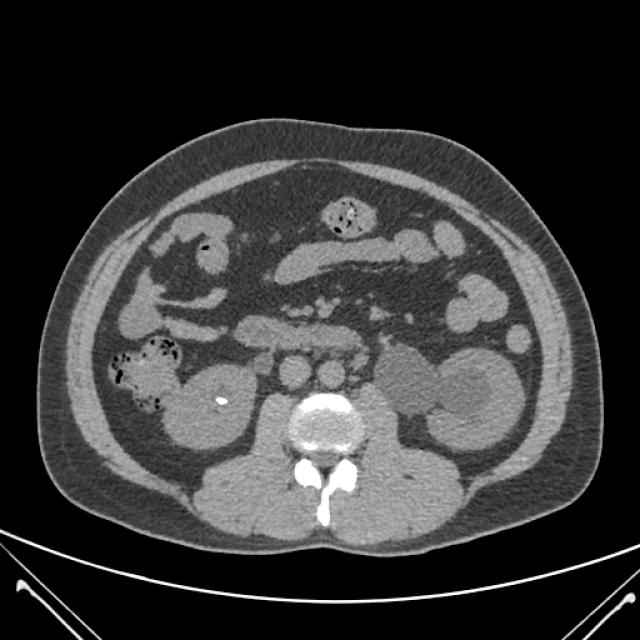kidneystone: (215, 398, 226, 404)
